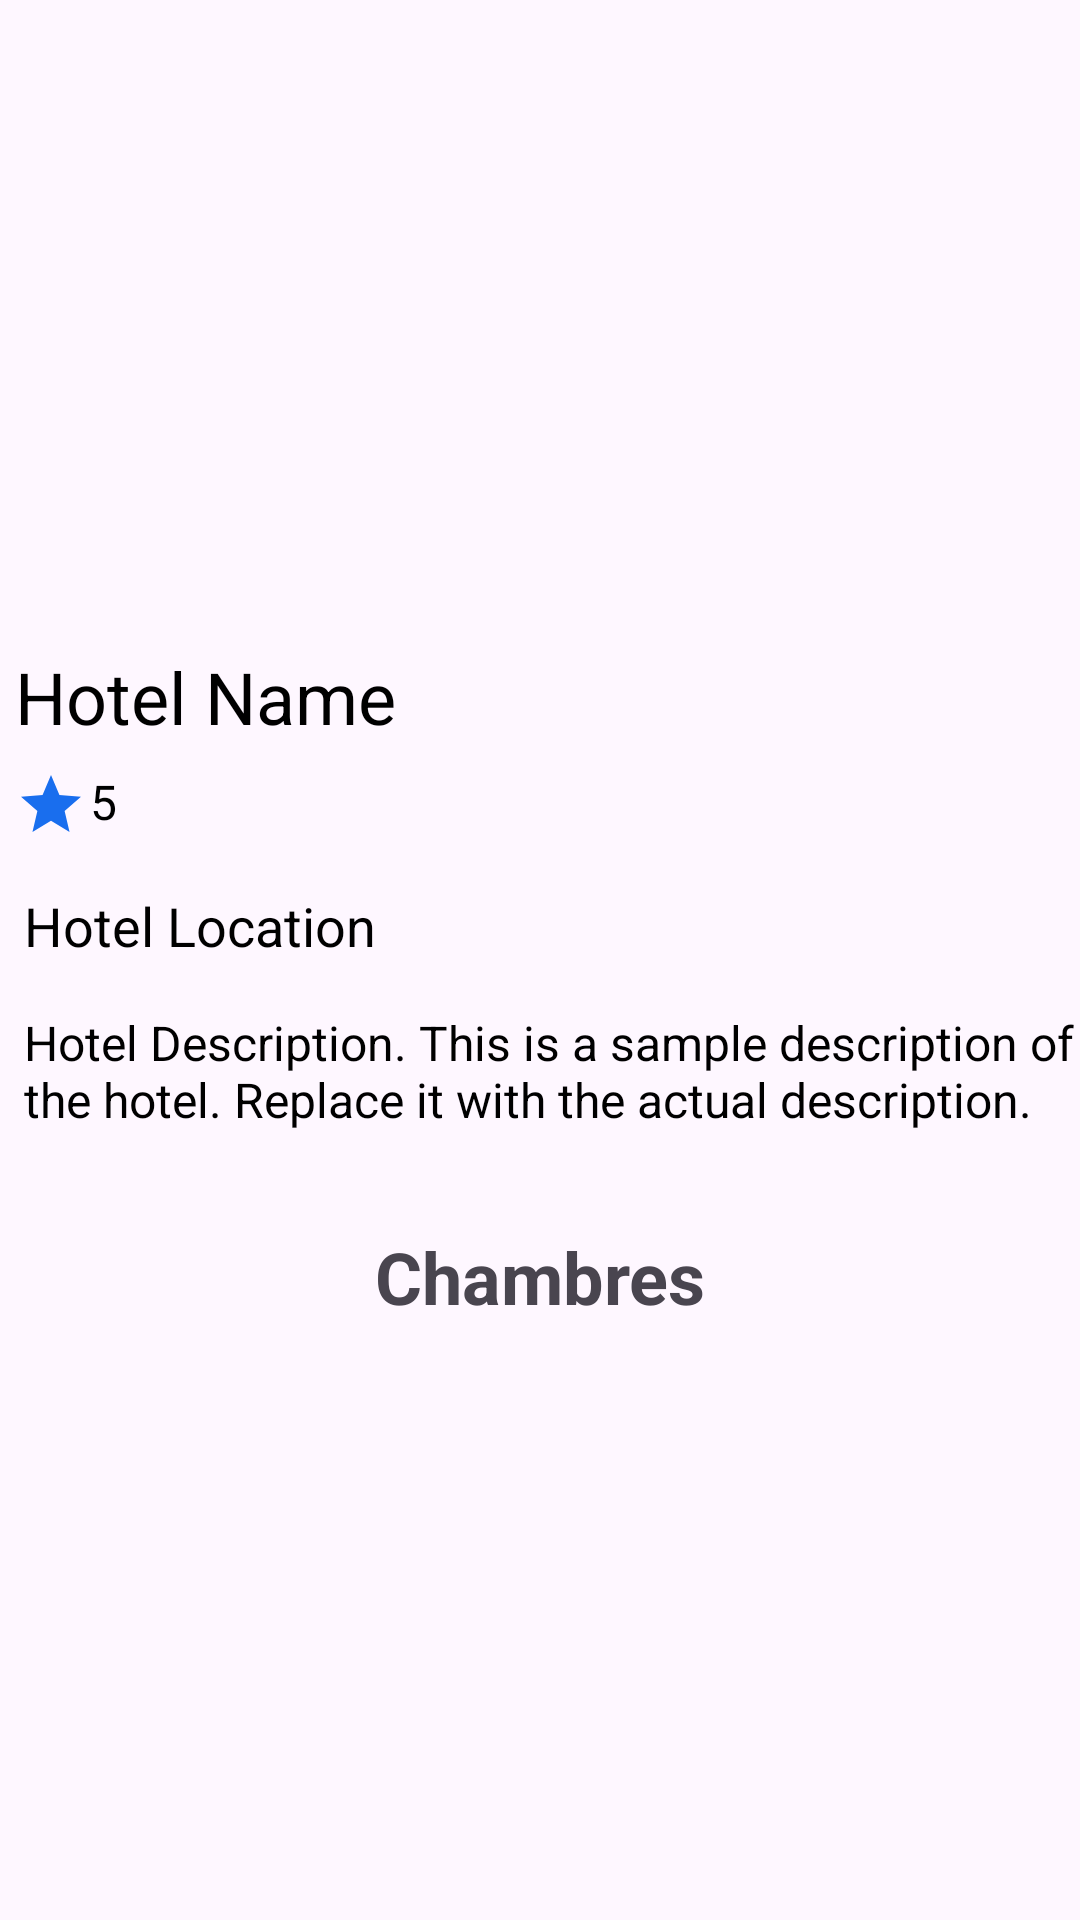

Screen size 1080px×1920px. Icon name, then its box in pixels as (x1, y1, x2, y2):
star: (21, 775, 81, 832)
